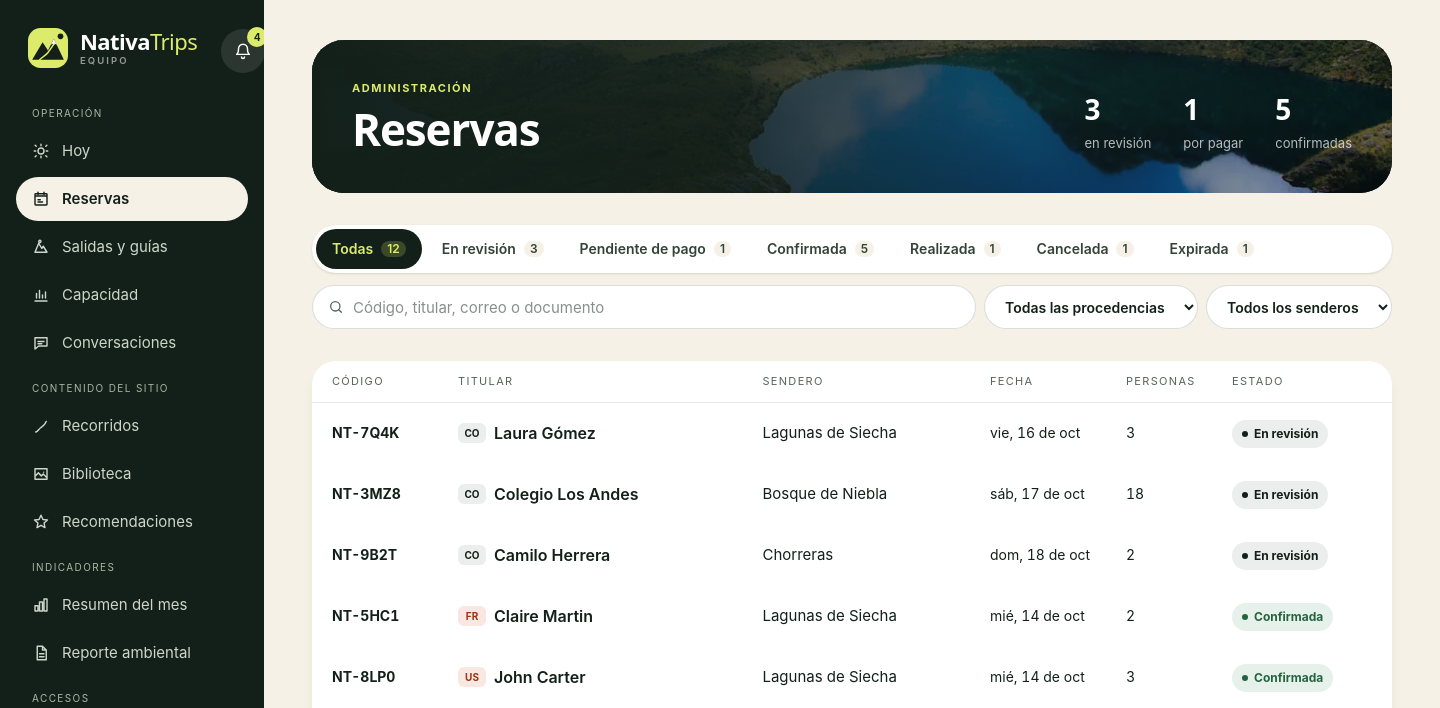
Scenario: pantallas del personal › el administrador filtra reservas con extranjeros y abre el detalle
The image size is (1440, 708).
Select "Con extranjeros" in the dropdown named "Procedencia" at [1091, 307], box [984,285,1198,329]
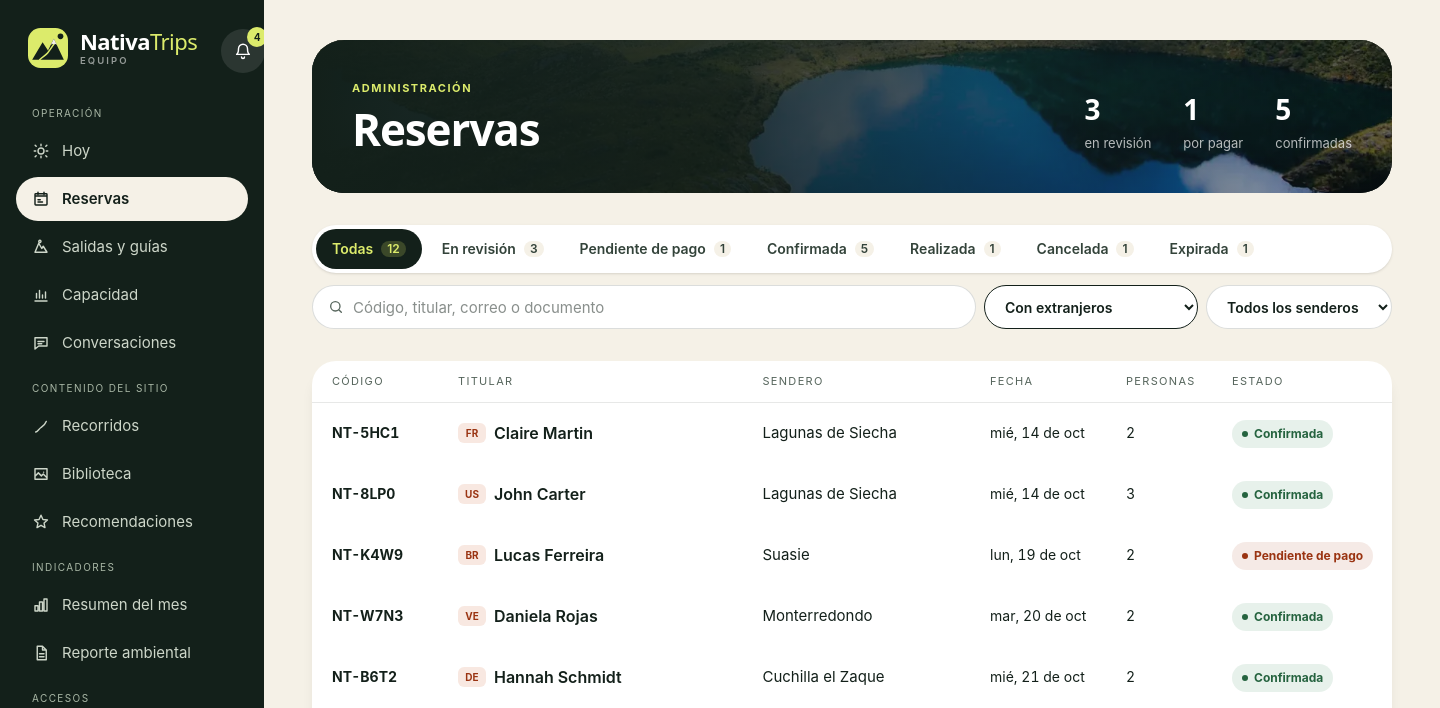
Expected: the text "Claire Martin" is shown, [494,421,593,445]
Click the button with aria-label "Ver reserva NT-5HC1".
click(852, 433)  # box [312,403,1392,464]
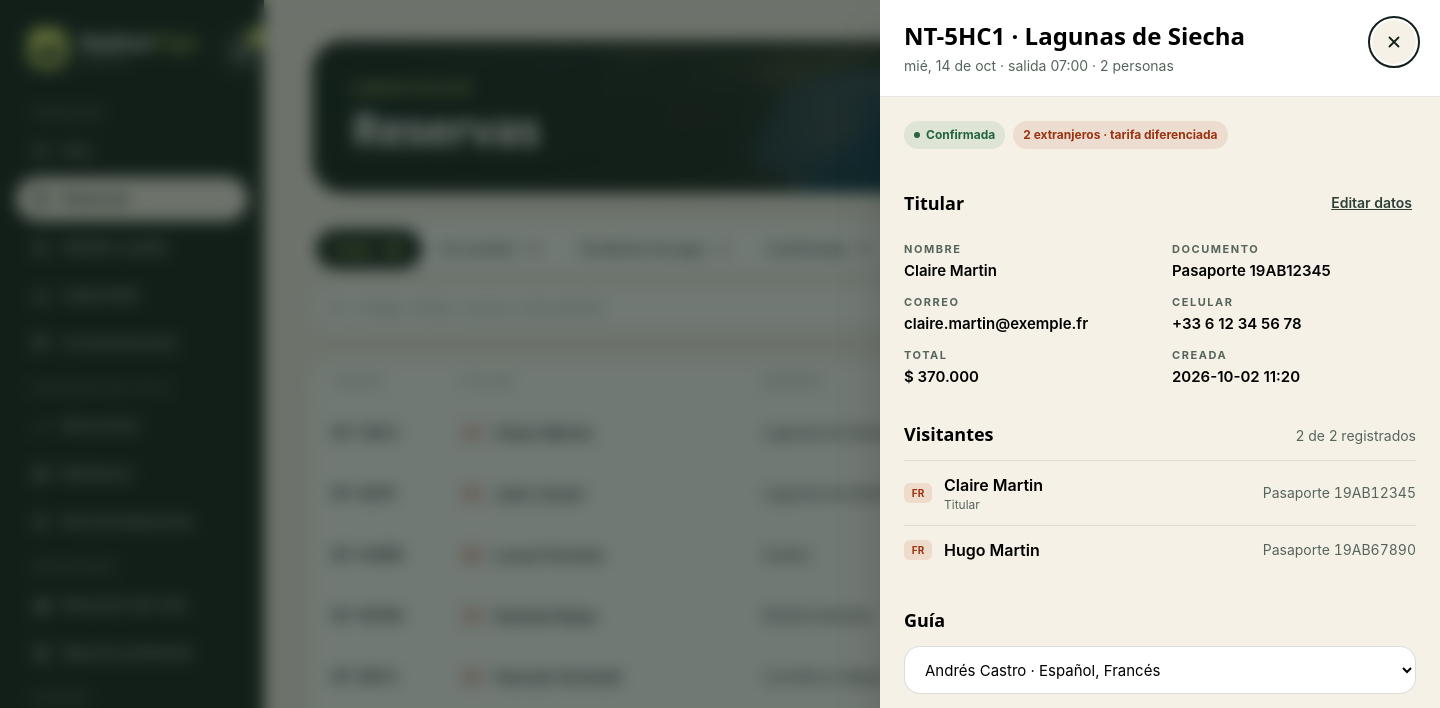
Expected: the text "Pasaporte 19AB12345" below "Documento" is shown, [1172,260,1331,280]
Expected: the text "2 extranjeros · tarifa diferenciada" is shown, [1013,121,1228,149]
